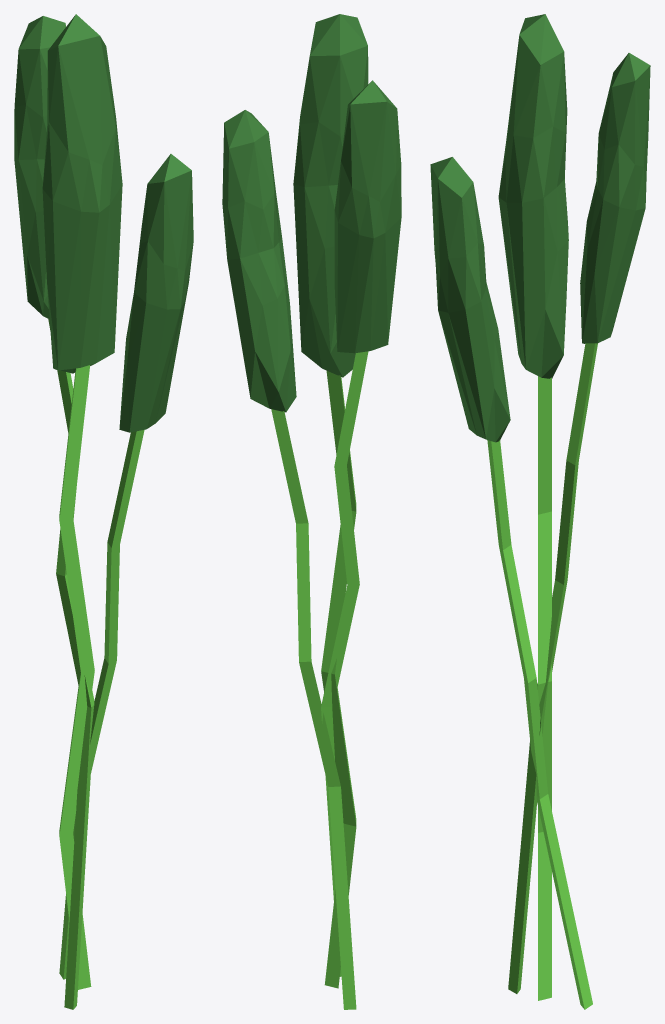
Rendered from FlorVerde.fbx.
3 renders of one model, left to right at view 1: azimuth 30°, elevation 25°; view 2: azimuth 210°, elevation 25°; view 3: azimuth 270°, elevation 25°, orthographic.
Parts seen in each view (by area): view 1: Cylinder.096; view 2: Cylinder.096; view 3: Cylinder.096.
Part boxes in pixels (x1,y1,x2,y2): Cylinder.096: [14, 14, 193, 1009]; Cylinder.096: [222, 14, 401, 1009]; Cylinder.096: [430, 14, 650, 1009].
Size of the model in its own units: 67.89 by 588 by 119.
